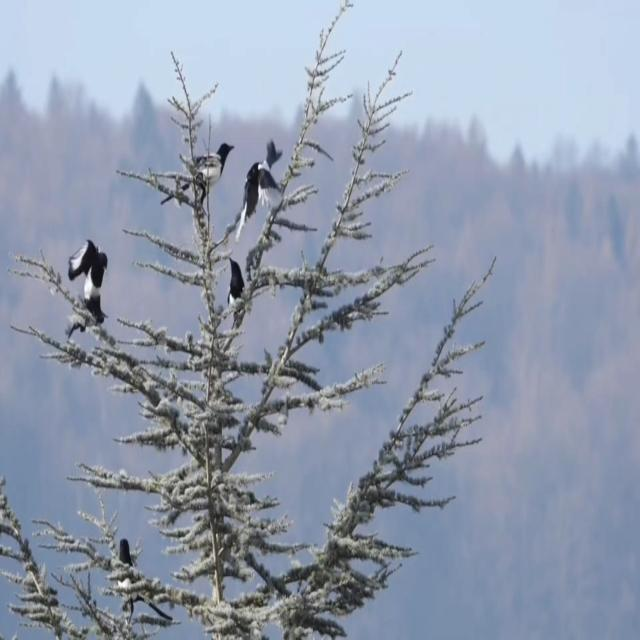bird: (58, 227, 114, 376), (224, 128, 289, 247), (168, 114, 232, 216), (217, 239, 261, 340), (108, 525, 146, 633)
